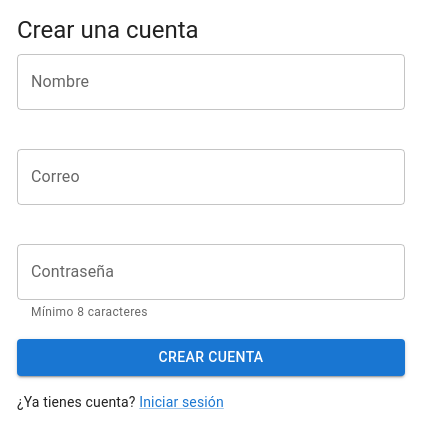
Scenario: SignUpPage › avisa de que hay que revisar el correo, sin ofrecer verificar aquí
Type "Persona Registrada" into the field labelled "Nombre" at (211, 82), box [17,54,405,110]
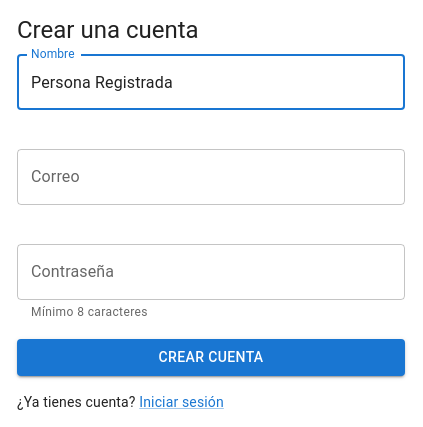
Type "nueva@ejemplo.com" into the field labelled "Correo" at (211, 177), box [17,149,405,205]
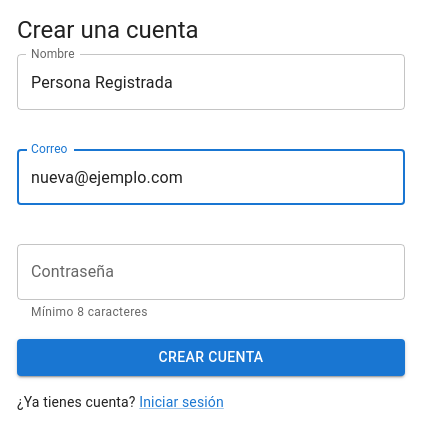
Type "BrumaCafe2026!" into the password field labelled "Contraseña" at (211, 272), box [17,244,405,300]
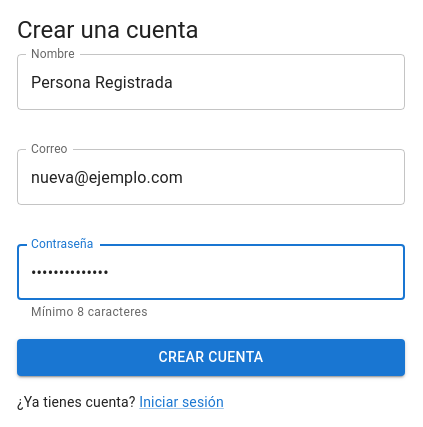
Click the button "Crear cuenta" at (211, 357), box [17,339,405,376]
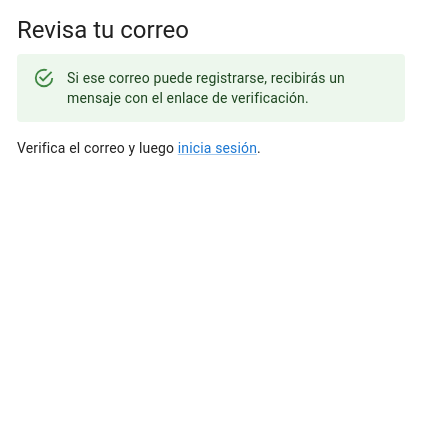
Now the heading "Revisa tu correo" is shown, box [17,16,189,44]
